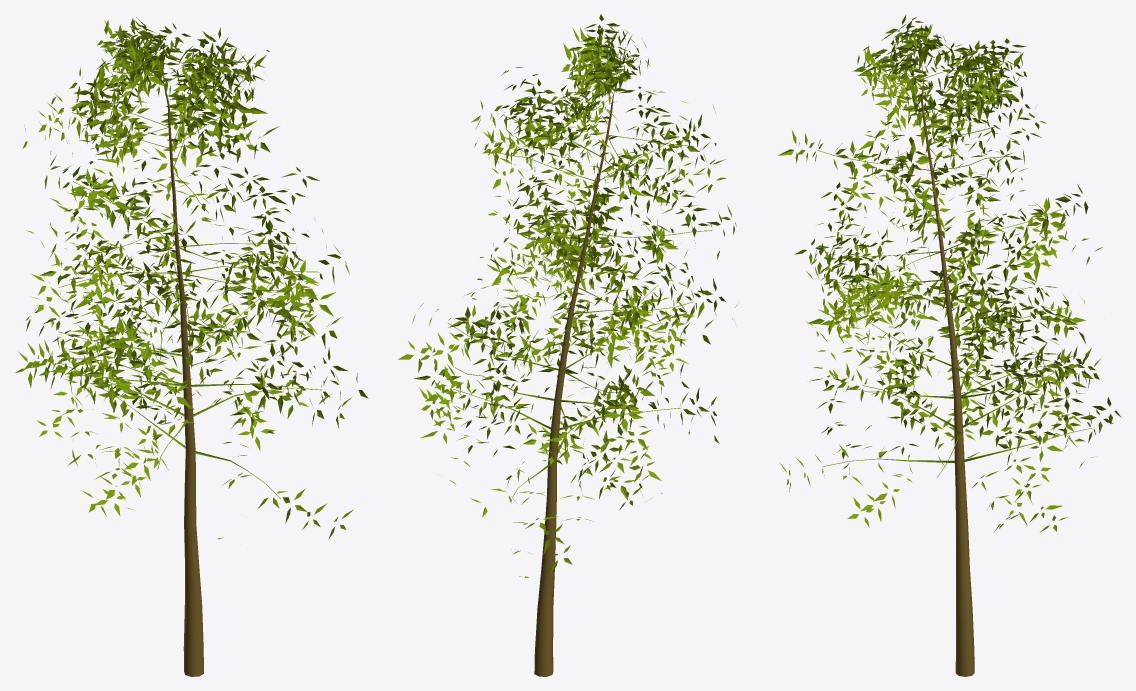
Rendered from real-tree2.glb.
The picture shows the model from 3 angles, left to right: view 1: azimuth 30°, elevation 25°; view 2: azimuth 150°, elevation 25°; view 3: azimuth 270°, elevation 25°; orthographic projection. The views are drawn at different scales.
Parts seen in each view (by area): view 1: PCR0001B_Untitled.043, PCR0003F_Untitled.036, PCR0013F_Untitled.010, PCR0015F_Untitled.058, PCR0008F_Untitled.038, PCR0018F_Untitled.013, PCR0002F_Untitled.005, PCR0023F_Untitled.039, PCR0004F_Untitled.032, PCR0016F_Untitled.020, PCR0007F_Untitled.041, PCR0010F_Untitled.054 (+19 smaller); view 2: PCR0001B_Untitled.043, PCR0002F_Untitled.005, PCR0015F_Untitled.058, PCR0018F_Untitled.013, PCR0009F_Untitled.052, PCR0016F_Untitled.020, PCR0012F_Untitled.021, PCR0008F_Untitled.038, PCR0022F_Untitled.035, PCR0030F_Untitled.055, PCR0010F_Untitled.054, PCR0026F_Untitled.007 (+17 smaller); view 3: PCR0001B_Untitled.043, PCR0031F_Untitled.031, PCR0013F_Untitled.010, PCR0003F_Untitled.036, PCR0011F_Untitled.008, PCR0018F_Untitled.013, PCR0004F_Untitled.032, PCR0017F_Untitled.011, PCR0002F_Untitled.005, PCR0006F_Untitled.045, PCR0015F_Untitled.058, PCR0029F_Untitled.042 (+17 smaller).
Boxes of the visible parts, x1,y1,x2,y2 form: PCR0001B_Untitled.043: [162, 46, 203, 676]; PCR0003F_Untitled.036: [97, 17, 174, 106]; PCR0013F_Untitled.010: [26, 119, 181, 275]; PCR0015F_Untitled.058: [198, 184, 349, 336]; PCR0008F_Untitled.038: [143, 27, 279, 158]; PCR0018F_Untitled.013: [78, 280, 233, 435]; PCR0002F_Untitled.005: [162, 37, 266, 106]; PCR0023F_Untitled.039: [126, 228, 260, 364]; PCR0004F_Untitled.032: [69, 82, 152, 218]; PCR0016F_Untitled.020: [200, 221, 311, 372]; PCR0007F_Untitled.041: [179, 50, 269, 203]; PCR0010F_Untitled.054: [151, 50, 253, 200]; PCR0001B_Untitled.043: [534, 54, 621, 676]; PCR0002F_Untitled.005: [561, 14, 637, 104]; PCR0015F_Untitled.058: [486, 176, 642, 305]; PCR0018F_Untitled.013: [593, 278, 737, 371]; PCR0009F_Untitled.052: [569, 86, 710, 213]; PCR0016F_Untitled.020: [503, 192, 657, 342]; PCR0012F_Untitled.021: [502, 166, 638, 305]; PCR0008F_Untitled.038: [471, 73, 596, 167]; PCR0022F_Untitled.035: [398, 257, 534, 417]; PCR0030F_Untitled.055: [495, 328, 642, 510]; PCR0010F_Untitled.054: [474, 96, 618, 251]; PCR0026F_Untitled.007: [572, 313, 670, 500]; PCR0001B_Untitled.043: [917, 37, 974, 676]; PCR0031F_Untitled.031: [948, 368, 1121, 532]; PCR0013F_Untitled.010: [952, 152, 1102, 305]; PCR0003F_Untitled.036: [921, 38, 1026, 106]; PCR0011F_Untitled.008: [857, 134, 968, 254]; PCR0018F_Untitled.013: [829, 242, 995, 375]; PCR0004F_Untitled.032: [858, 30, 994, 162]; PCR0017F_Untitled.011: [886, 210, 1034, 318]; PCR0002F_Untitled.005: [852, 39, 928, 110]; PCR0006F_Untitled.045: [920, 43, 1027, 183]; PCR0015F_Untitled.058: [821, 220, 942, 376]; PCR0029F_Untitled.042: [822, 337, 953, 447].
Bounding box in the file's own units: 1.99 × 3.82 × 1.89.
